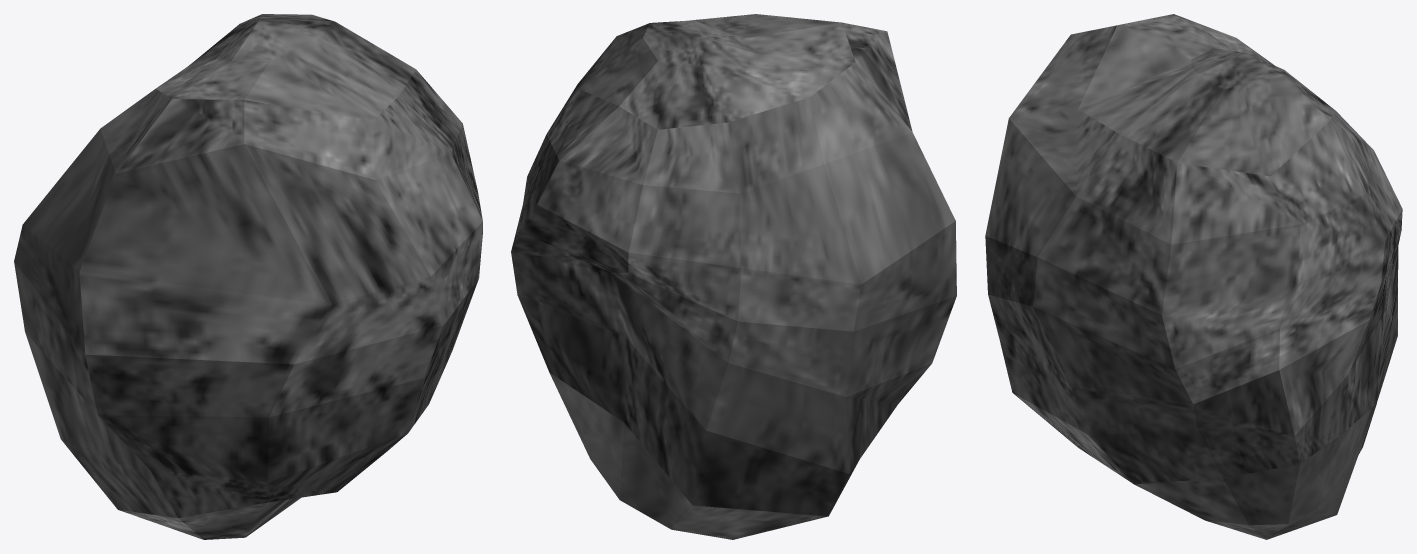
Rendered from Meteoriet2 1.fbx.
The picture shows the model from 3 angles, left to right: view 1: azimuth 30°, elevation 25°; view 2: azimuth 150°, elevation 25°; view 3: azimuth 270°, elevation 25°; orthographic projection. The views are drawn at different scales.
Parts seen in each view (by area): view 1: Meteoriet1; view 2: Meteoriet1; view 3: Meteoriet1.
Part boxes in pixels (left/top/right/bottom): Meteoriet1: left=14, top=14, right=482, bottom=539; Meteoriet1: left=511, top=14, right=956, bottom=539; Meteoriet1: left=985, top=14, right=1402, bottom=539.
Bounding box in the file's own units: 226 × 261 × 203.
